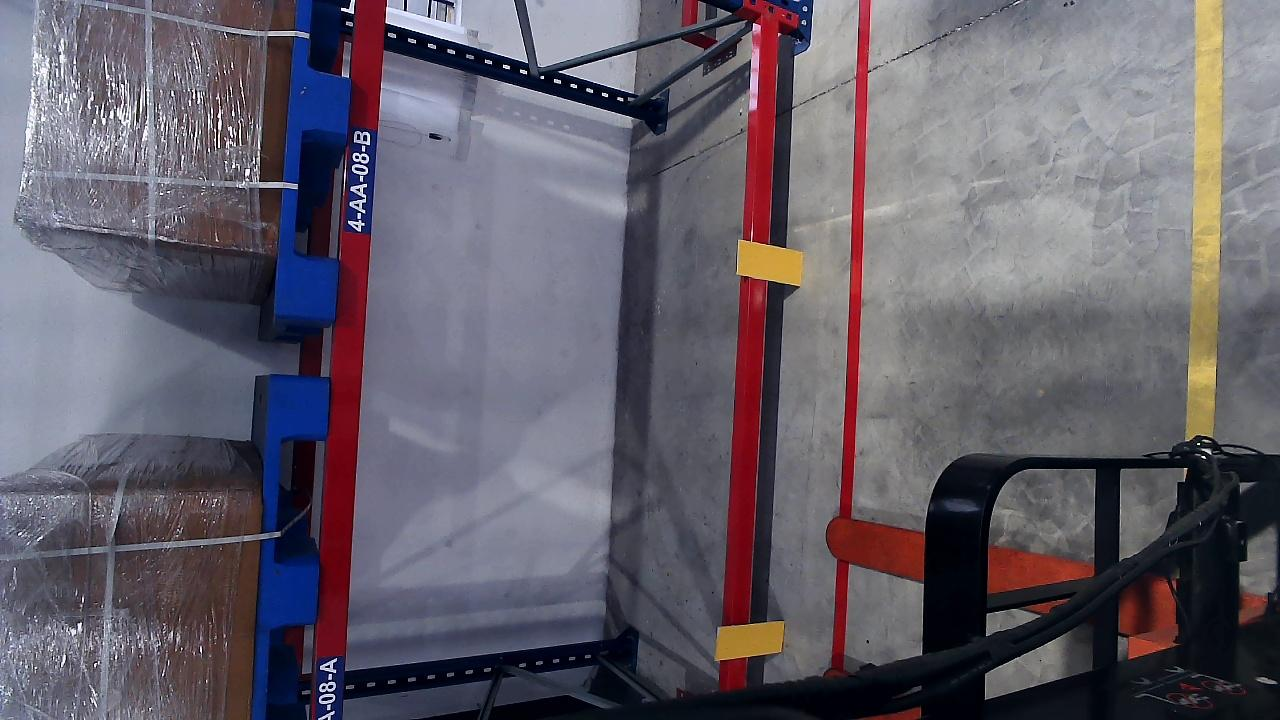h_rack: (310, 0, 387, 708), (721, 17, 780, 681)
orange_strip: (735, 240, 802, 286), (715, 620, 785, 659)
red_line: (835, 11, 871, 625)
small_pallet: (271, 0, 355, 325), (252, 375, 324, 720)
yellow_line: (1185, 0, 1224, 438)
